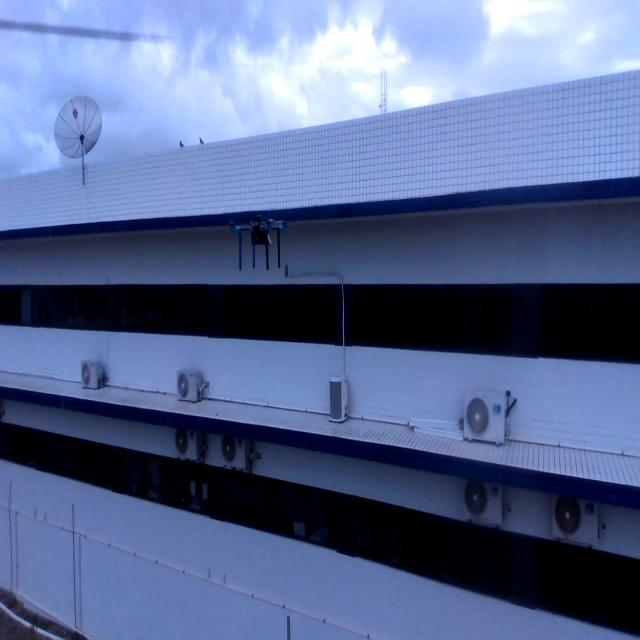-uav-: (221, 204, 299, 286)
